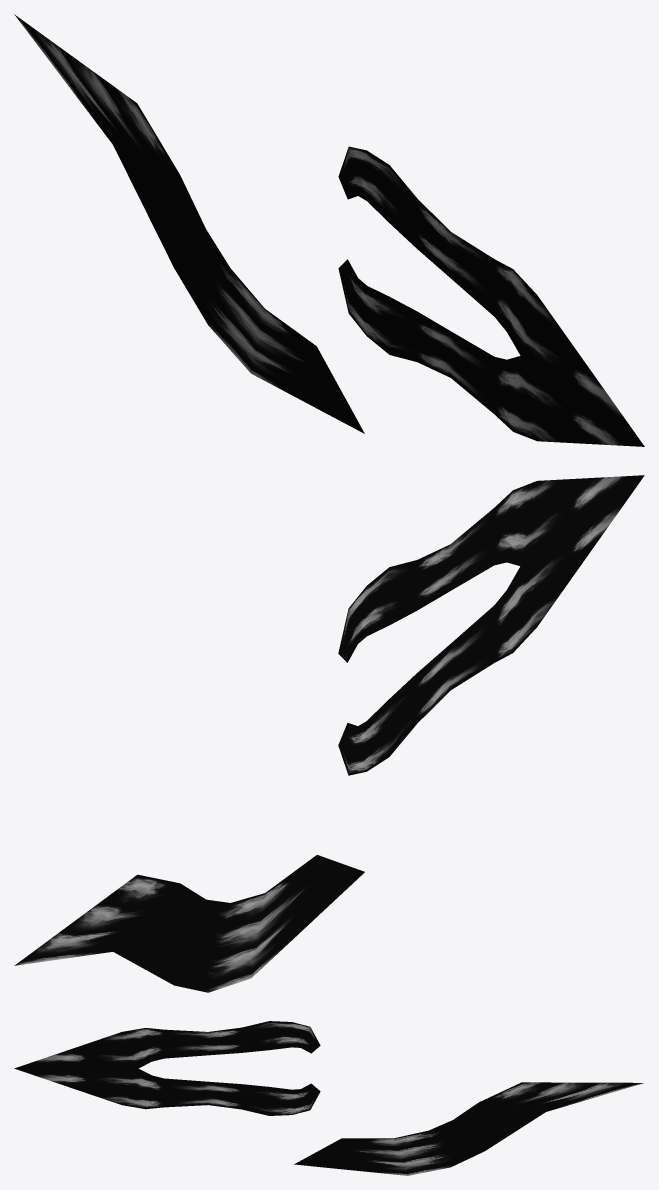
The model's file is xuelangshouzhang002.fbx.
3 renders of one model, top to bottom at view 1: azimuth 30°, elevation 25°; view 2: azimuth 150°, elevation 25°; view 3: azimuth 270°, elevation 25°, orthographic. The views are drawn at different scales.
Visible parts, largest first — view 1: xuelangshouzhang002; view 2: xuelangshouzhang002; view 3: xuelangshouzhang002.
Part boxes in pixels (x1,y1,x2,y2): xuelangshouzhang002: (14, 14, 644, 446); xuelangshouzhang002: (14, 475, 644, 992); xuelangshouzhang002: (14, 1021, 643, 1175).
Size of the model in its own units: 0.1242 by 160 by 591.
